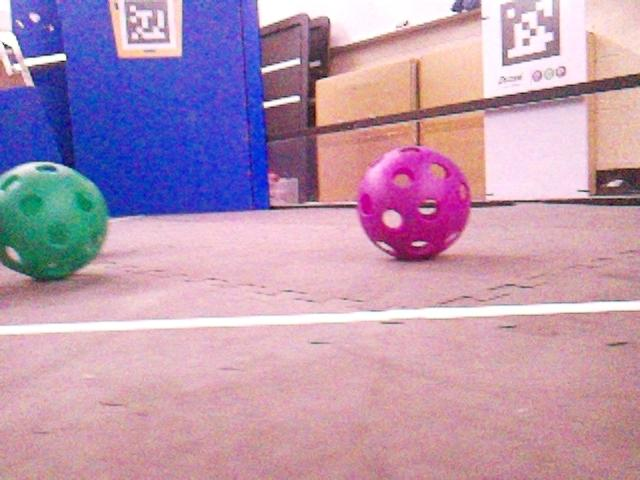Green: (0, 162, 109, 282)
Purple: (354, 144, 472, 260)
